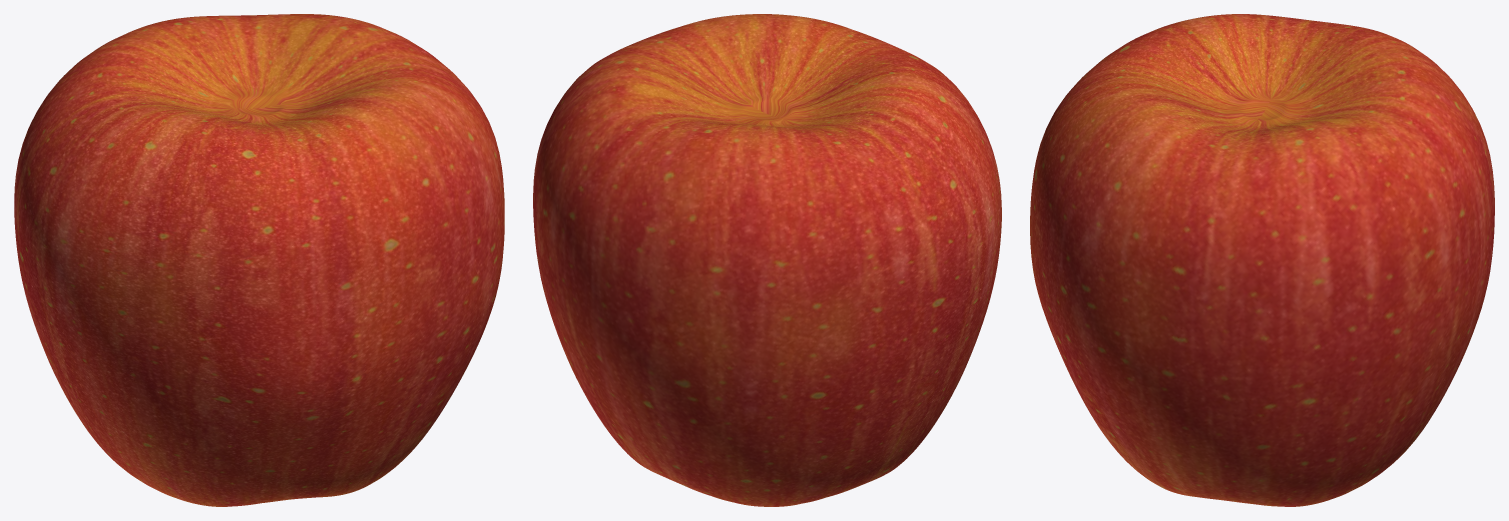
File: apel.glb
3 views of the same model, side by side, from view 1: azimuth 30°, elevation 25°; view 2: azimuth 150°, elevation 25°; view 3: azimuth 270°, elevation 25° (orthographic). The views are drawn at different scales.
Visible parts, largest first — view 1: Apple; view 2: Apple; view 3: Apple.
Boxes of the visible parts, x1,y1,x2,y2 form: Apple: [14, 14, 504, 506]; Apple: [533, 14, 1001, 506]; Apple: [1030, 14, 1494, 506].
Bounding box in the file's own units: 1.62 × 1.42 × 1.55.
1 material, 1 textured.
